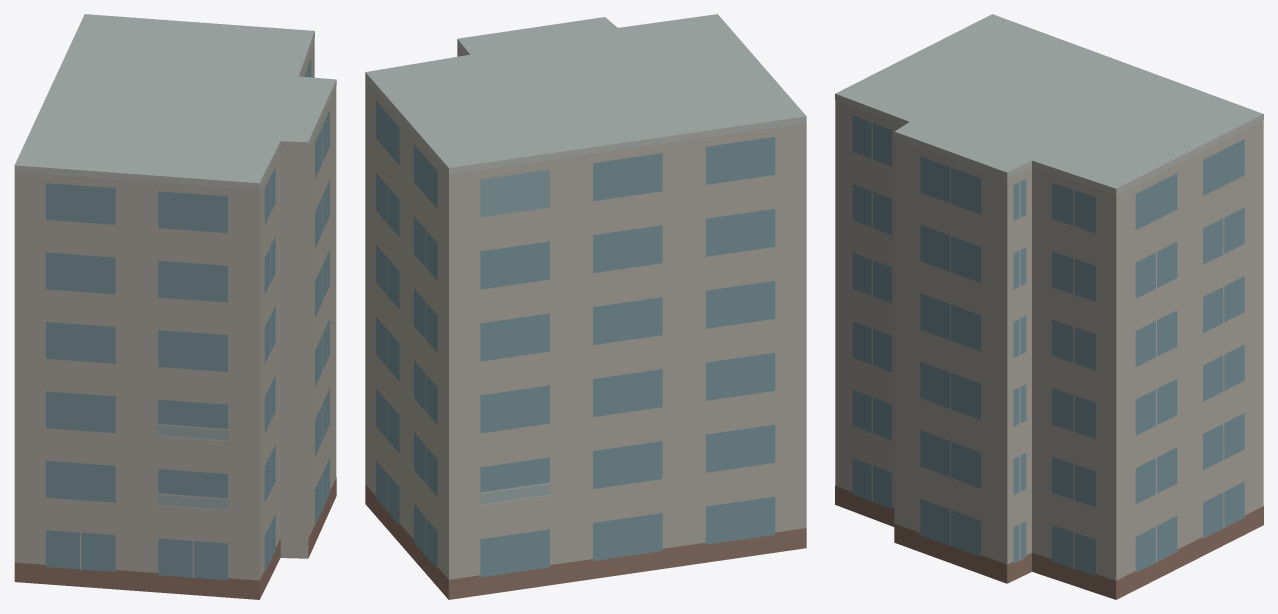
The model's file is survey-upis-33002028.glb.
3 renders of one model, left to right at view 1: azimuth 30°, elevation 25°; view 2: azimuth 150°, elevation 25°; view 3: azimuth 270°, elevation 25°, orthographic. The views are drawn at different scales.
Visible parts, largest first — view 1: survey-upis-33002028.tmp; view 2: survey-upis-33002028.tmp; view 3: survey-upis-33002028.tmp.
Boxes of the visible parts, x1,y1,x2,y2 form: survey-upis-33002028.tmp: (14, 14, 336, 599); survey-upis-33002028.tmp: (365, 14, 806, 599); survey-upis-33002028.tmp: (835, 14, 1263, 599).
Bounding box in the file's own units: 14.51 × 15.9 × 15.03.
